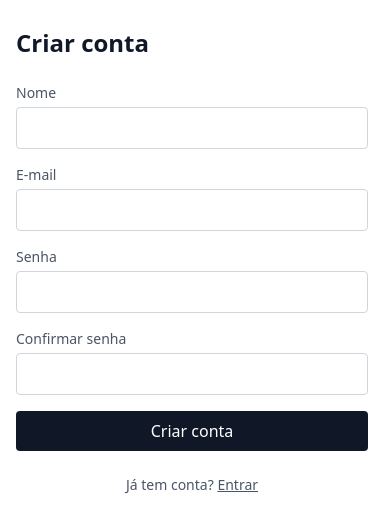
it: RegisterPage (integration) › should show an error message when the email is already registered
The width and height of the screenshot is (385, 529).
# WHEN the user submits the register form
Type "Ana" into the field labelled "Nome" at [192, 128], box [16,107,368,149]
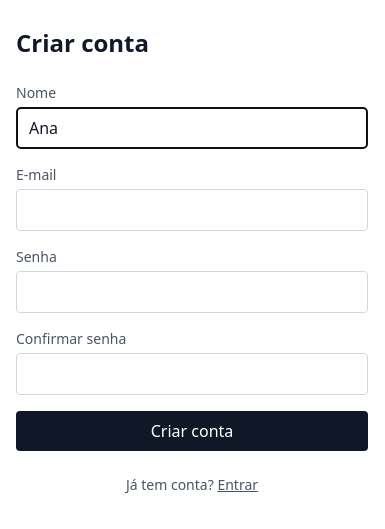
Type "ana@test.com" into the field labelled "E-mail" at [192, 210], box [16,189,368,231]
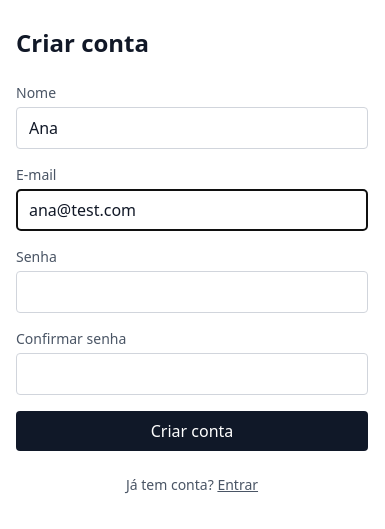
Type "password123" into the password field labelled "Senha" at [192, 292], box [16,271,368,313]
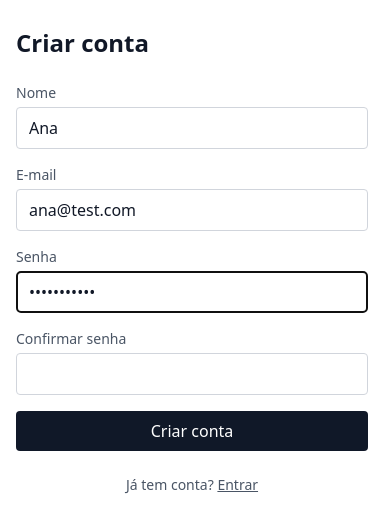
Type "password123" into the password field labelled "Confirmar senha" at [192, 374], box [16,353,368,395]
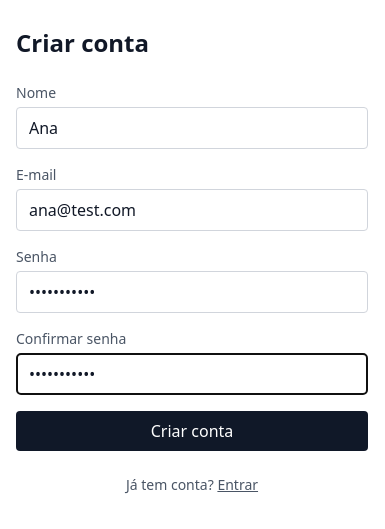
Click the button "Criar conta" at [192, 431], box [16,411,368,451]
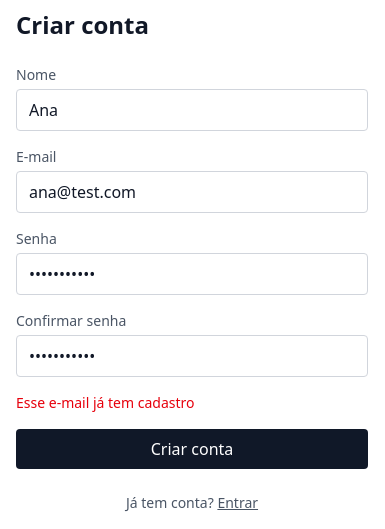
Result: the message reads "Esse e-mail já tem cadastro" at [16,393,194,412]
